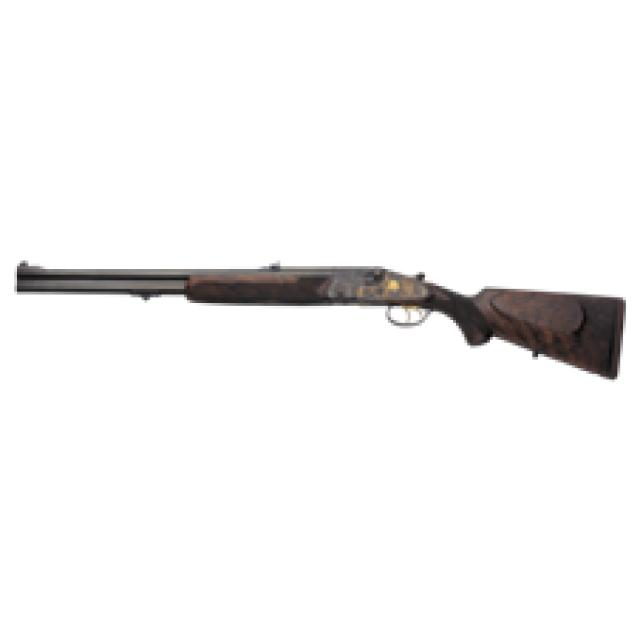rifle: (1, 240, 640, 396)
